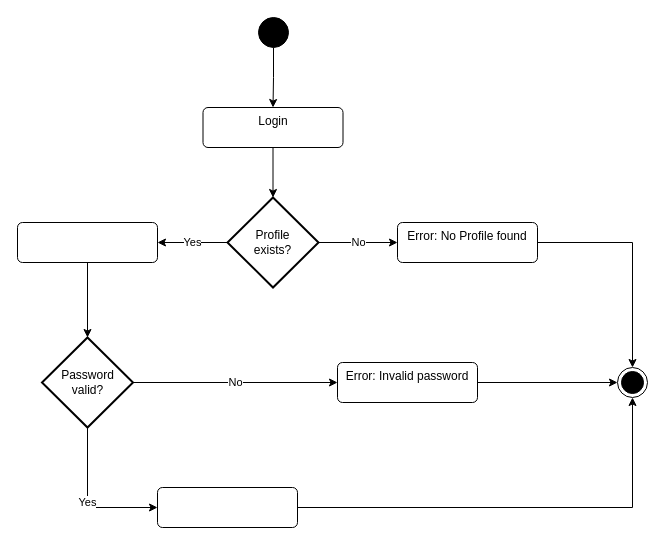
The diagram is 665 pixels wide and 545 high, and some of its shapes have lost their labels. The box of each missing label's shape, as (x1, y1, x2, y2) in pixels:
Store profileId in AuthentifcationPreferences: (156, 486, 298, 528)
VerifyPassword: (16, 222, 158, 262)
